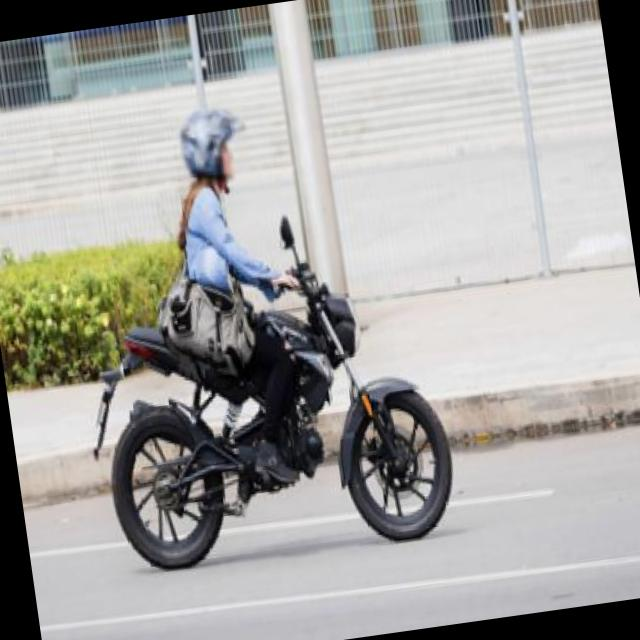With Helmet: (170, 88, 253, 192)
